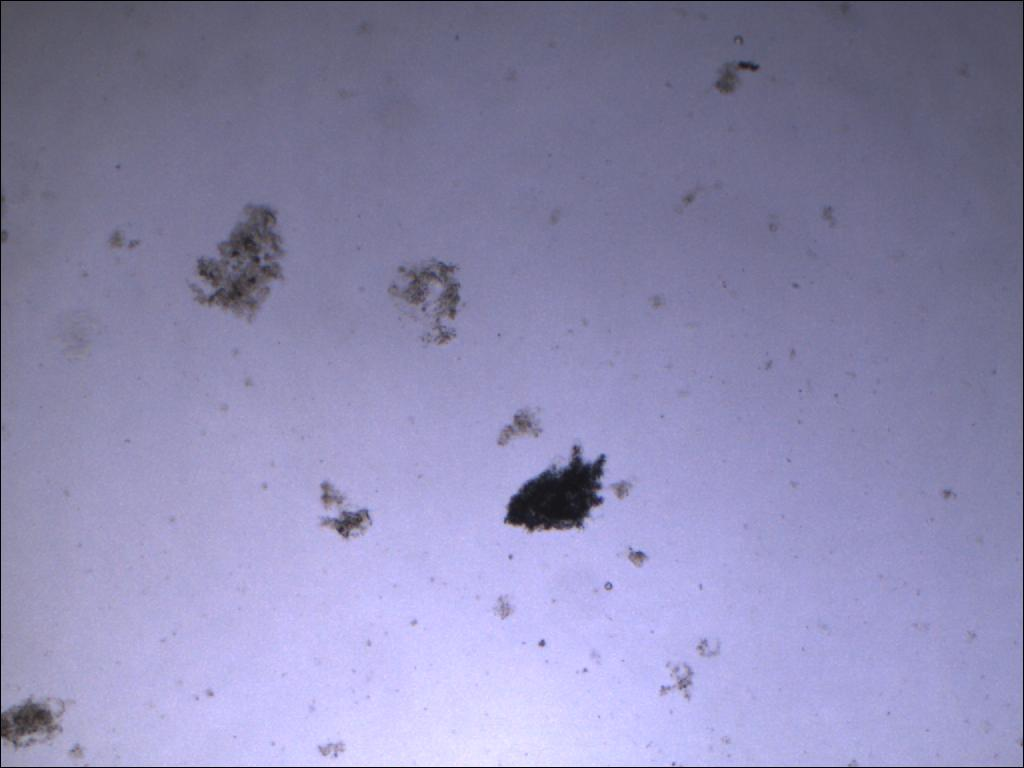amoeba: (498, 436, 616, 540)
